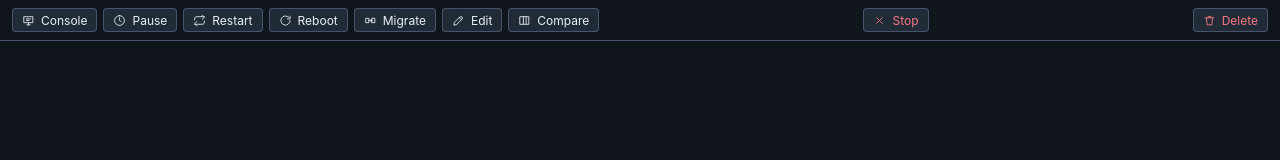
Reboot asks about {}, not about deleting
This screenshot has width=1280, height=160.
Click the button "Reboot" at (308, 20), box left=268, top=8, right=348, bottom=32
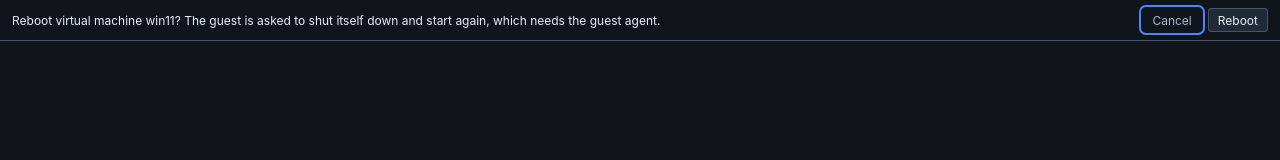
Now the text "Reboot virtual machine win11?" is shown, box left=12, top=12, right=660, bottom=28
